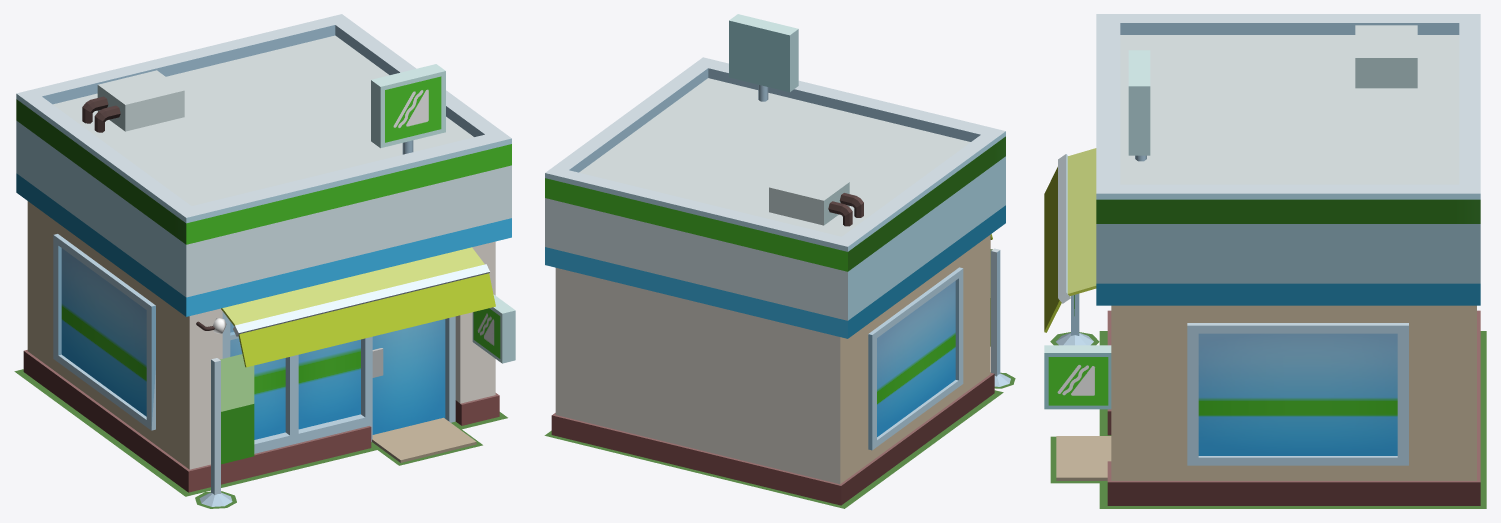
The model's file is bg_poi_010.fbx.
3 renders of one model, left to right at view 1: azimuth 30°, elevation 25°; view 2: azimuth 150°, elevation 25°; view 3: azimuth 270°, elevation 25°, orthographic. The views are drawn at different scales.
Visible parts, largest first — view 1: famima; view 2: famima; view 3: famima.
Boxes of the visible parts, x1,y1,x2,y2 form: famima: (14, 14, 515, 508); famima: (544, 14, 1015, 508); famima: (1044, 14, 1486, 508).
Size of the model in its own units: 973 by 999 by 1014.
